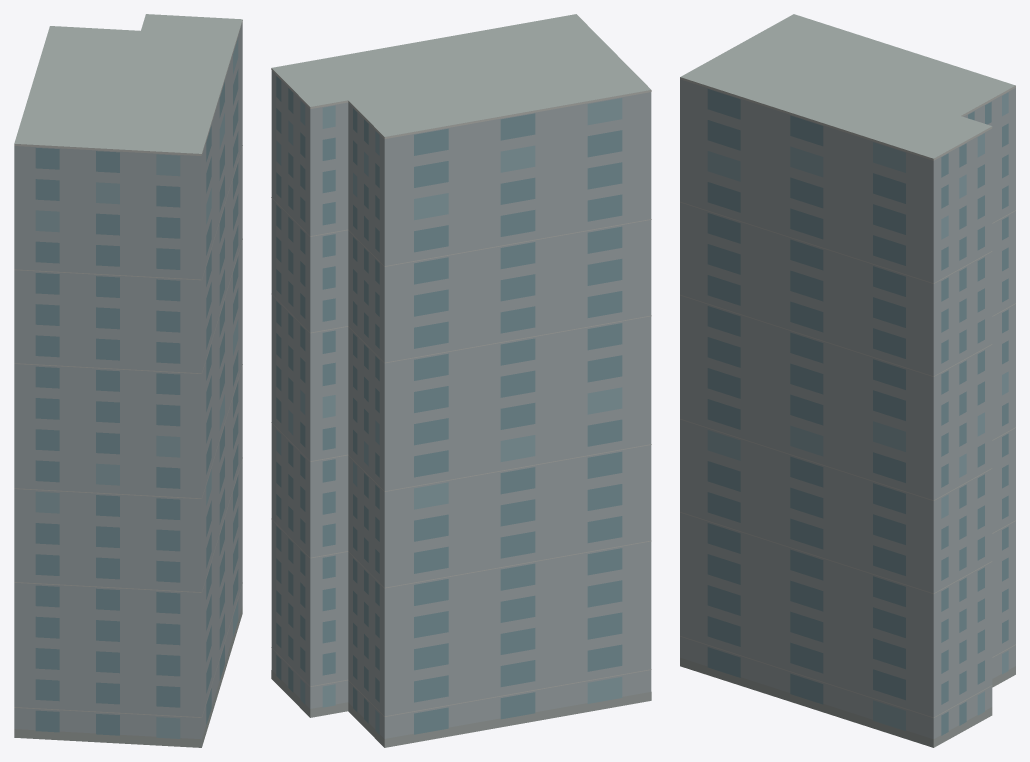
The model's file is residential-d731800d-8510-4939-a918-170f6d65e04c.glb.
3 renders of one model, left to right at view 1: azimuth 30°, elevation 25°; view 2: azimuth 150°, elevation 25°; view 3: azimuth 270°, elevation 25°, orthographic. The views are drawn at different scales.
Visible parts, largest first — view 1: residential-d731800d-8510-4939-a918-170f6d65e04c.tmp; view 2: residential-d731800d-8510-4939-a918-170f6d65e04c.tmp; view 3: residential-d731800d-8510-4939-a918-170f6d65e04c.tmp.
Boxes of the visible parts, x1,y1,x2,y2 form: residential-d731800d-8510-4939-a918-170f6d65e04c.tmp: (14, 14, 242, 747); residential-d731800d-8510-4939-a918-170f6d65e04c.tmp: (271, 14, 651, 747); residential-d731800d-8510-4939-a918-170f6d65e04c.tmp: (680, 14, 1015, 747).
Bounding box in the file's own units: 35.42 × 67.2 × 34.72.
